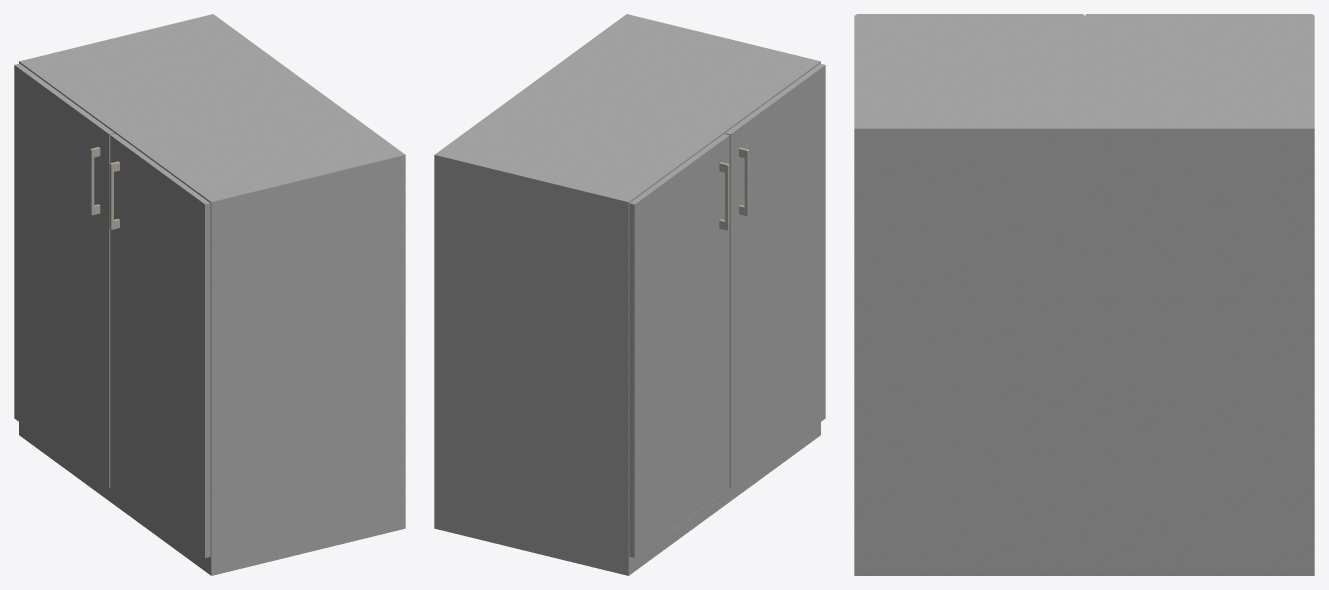
The model's file is Shelve.fbx.
The picture shows the model from 3 angles, left to right: view 1: azimuth 30°, elevation 25°; view 2: azimuth 150°, elevation 25°; view 3: azimuth 270°, elevation 25°; orthographic projection. The views are drawn at different scales.
Parts seen in each view (by area): view 1: Shelf1; view 2: Shelf1; view 3: Shelf1.
Boxes of the visible parts, x1,y1,x2,y2 form: Shelf1: [14, 14, 405, 575]; Shelf1: [434, 14, 825, 575]; Shelf1: [854, 14, 1314, 575].
Bounding box in the file's own units: 49.29 × 84.52 × 78.86.
